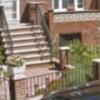stairs: (0, 21, 54, 69)
